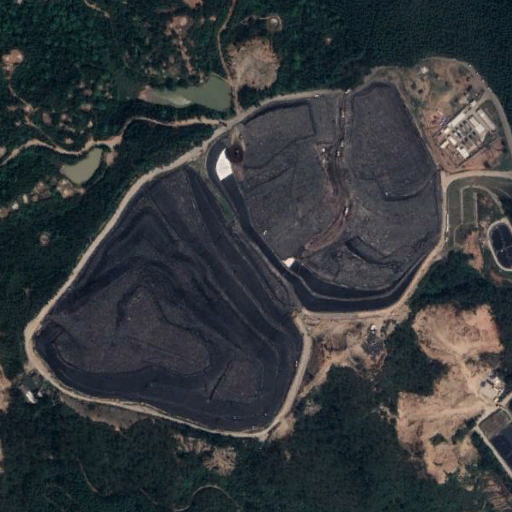lf: (24, 85, 446, 431)
